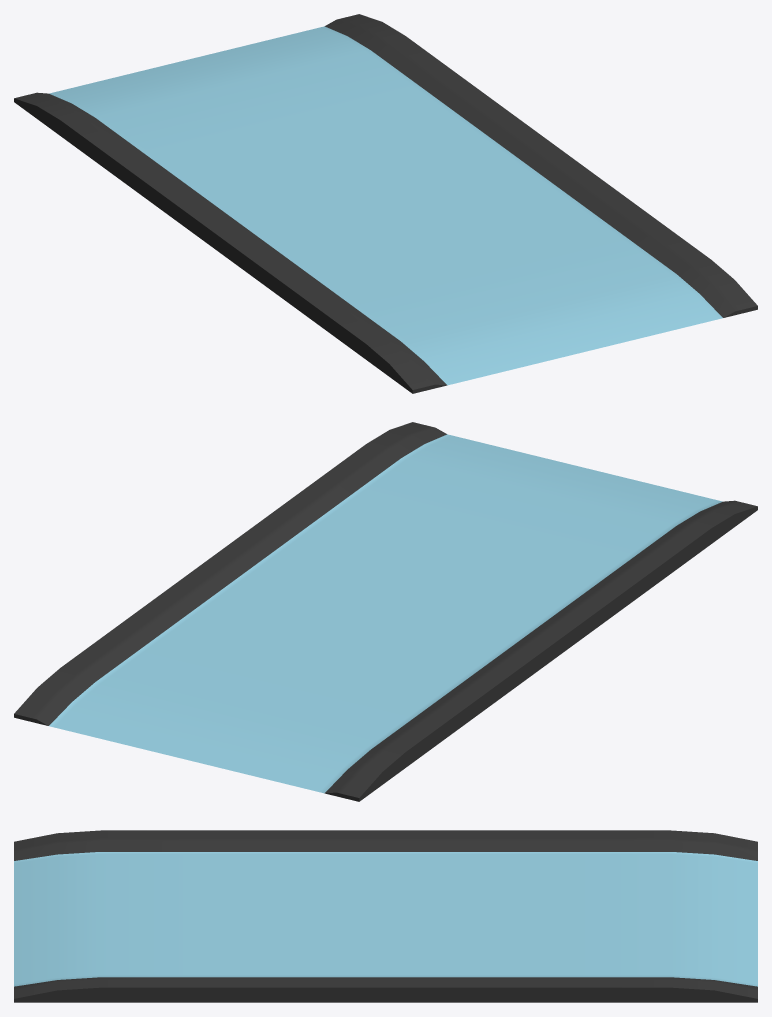
File: BoostPad.fbx
3 views of the same model, one above another, from view 1: azimuth 30°, elevation 25°; view 2: azimuth 150°, elevation 25°; view 3: azimuth 270°, elevation 25° (orthographic). The views are drawn at different scales.
Visible parts, largest first — view 1: BoostPad; view 2: BoostPad; view 3: BoostPad.
Part boxes in pixels (x1=…): BoostPad: x1=14, y1=14, x2=757, y2=393; BoostPad: x1=14, y1=422, x2=757, y2=801; BoostPad: x1=14, y1=830, x2=757, y2=1002.
Size of the model in its own units: 333 by 14.61 by 666.
